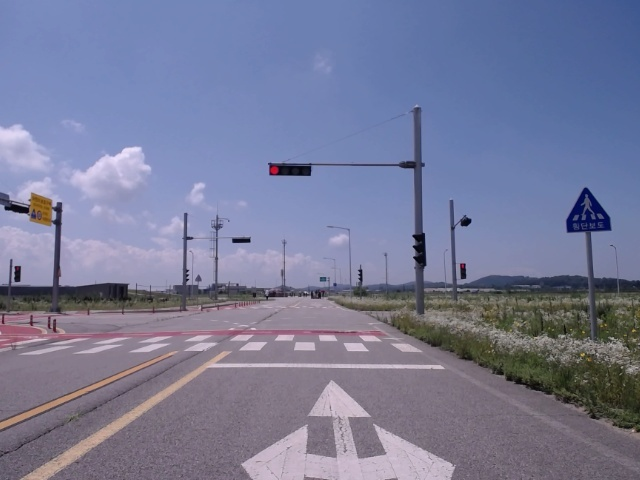red_4: (268, 165, 312, 176)
